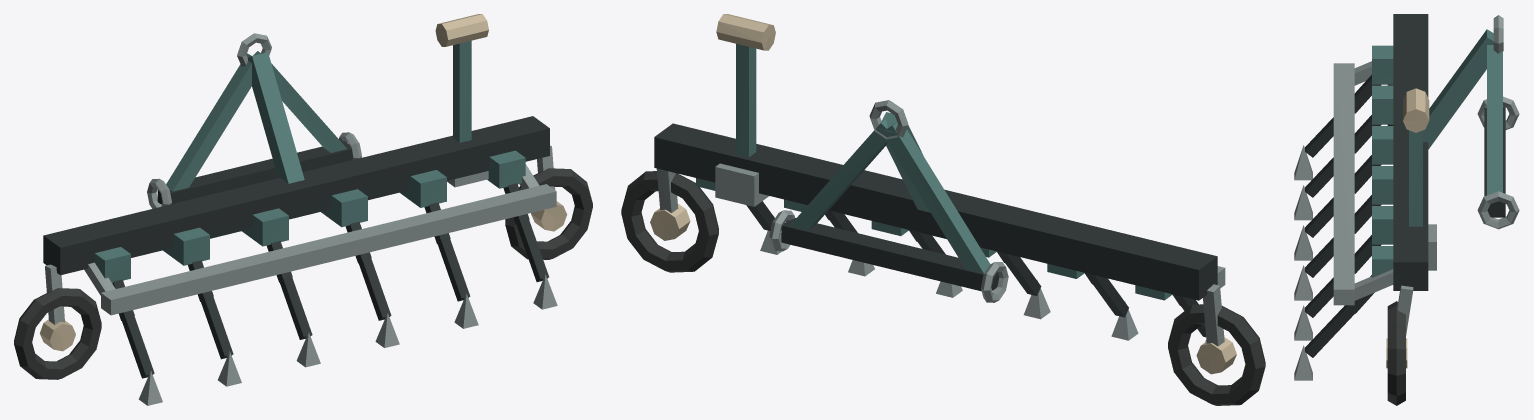
The model's file is Cultivator.glb.
3 views of the same model, side by side, from view 1: azimuth 30°, elevation 25°; view 2: azimuth 150°, elevation 25°; view 3: azimuth 270°, elevation 25° (orthographic). The views are drawn at different scales.
Parts seen in each view (by area): view 1: cultivator-static-cultivator-dark-iron-toolbar-tines, cultivator-static-cultivator-galvanized-braces, cultivator-static-cultivator-muted-teal-hitch-lever, cultivator-static-cultivator-charcoal-depth-tires, cultivator-static-cultivator-warm-cream-wheel-hubs; view 2: cultivator-static-cultivator-dark-iron-toolbar-tines, cultivator-static-cultivator-muted-teal-hitch-lever, cultivator-static-cultivator-charcoal-depth-tires, cultivator-static-cultivator-galvanized-braces, cultivator-static-cultivator-warm-cream-wheel-hubs; view 3: cultivator-static-cultivator-dark-iron-toolbar-tines, cultivator-static-cultivator-galvanized-braces, cultivator-static-cultivator-muted-teal-hitch-lever, cultivator-static-cultivator-charcoal-depth-tires, cultivator-static-cultivator-warm-cream-wheel-hubs.
Boxes of the visible parts, x1,y1,x2,y2 form: cultivator-static-cultivator-dark-iron-toolbar-tines: (43, 116, 549, 378); cultivator-static-cultivator-galvanized-braces: (45, 33, 557, 405); cultivator-static-cultivator-muted-teal-hitch-lever: (94, 40, 525, 283); cultivator-static-cultivator-charcoal-depth-tires: (14, 168, 592, 379); cultivator-static-cultivator-warm-cream-wheel-hubs: (40, 14, 567, 351); cultivator-static-cultivator-dark-iron-toolbar-tines: (654, 123, 1217, 337); cultivator-static-cultivator-muted-teal-hitch-lever: (696, 44, 1172, 300); cultivator-static-cultivator-charcoal-depth-tires: (621, 171, 1265, 405); cultivator-static-cultivator-galvanized-braces: (656, 100, 1225, 346); cultivator-static-cultivator-warm-cream-wheel-hubs: (650, 14, 1236, 374); cultivator-static-cultivator-dark-iron-toolbar-tines: (1305, 14, 1505, 357); cultivator-static-cultivator-galvanized-braces: (1294, 15, 1519, 380); cultivator-static-cultivator-muted-teal-hitch-lever: (1372, 29, 1502, 277); cultivator-static-cultivator-charcoal-depth-tires: (1387, 84, 1405, 405); cultivator-static-cultivator-warm-cream-wheel-hubs: (1386, 88, 1429, 368).
Bounding box in the file's own units: 3.96 × 1.65 × 1.28.
